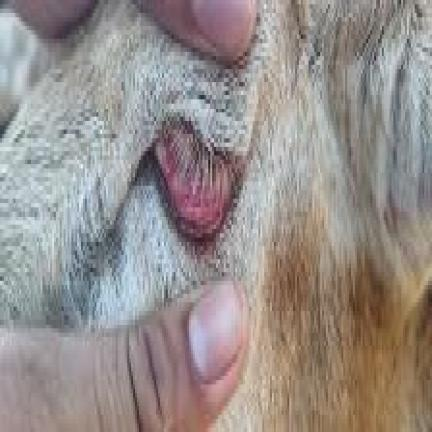goat-eye-anemia-22222222: (153, 130, 239, 237)
